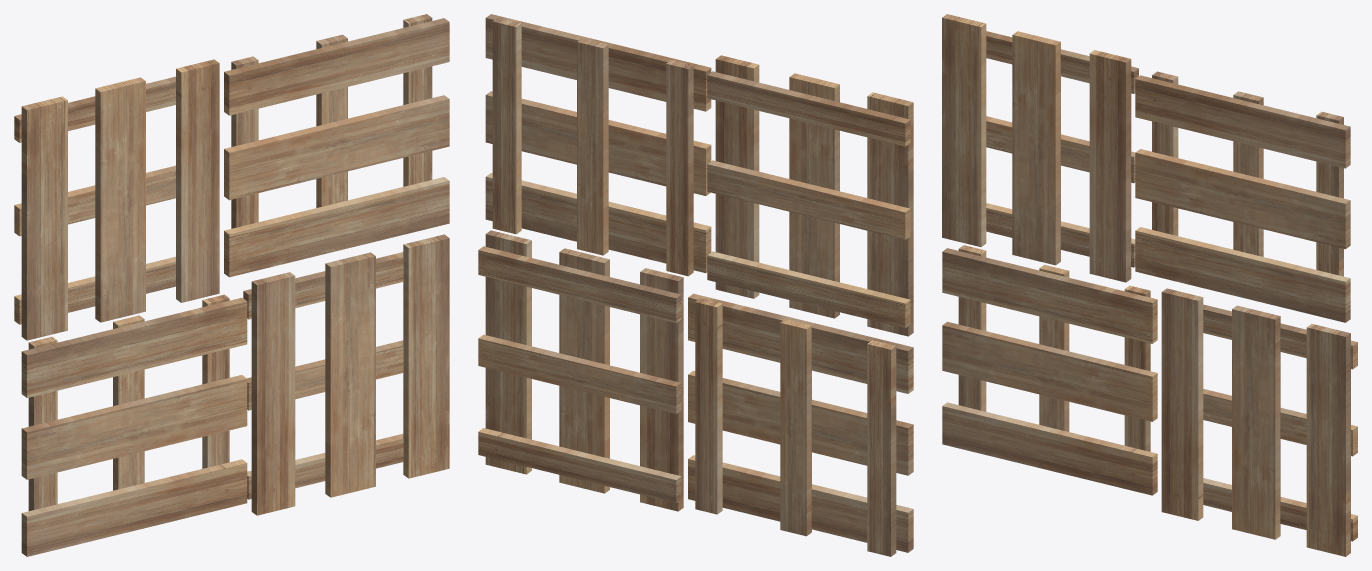
The model's file is warehouse_wood_frame.glb.
3 views of the same model, side by side, from view 1: azimuth 30°, elevation 25°; view 2: azimuth 150°, elevation 25°; view 3: azimuth 330°, elevation 25° (orthographic). The views are drawn at different scales.
Parts seen in each view (by area): view 1: 07. lemari.002; view 2: 07. lemari.002; view 3: 07. lemari.002.
Boxes of the visible parts, x1,y1,x2,y2 form: 07. lemari.002: [14, 14, 449, 556]; 07. lemari.002: [478, 14, 913, 556]; 07. lemari.002: [942, 14, 1357, 556].
Bounding box in the file's own units: 1.69 × 1.75 × 0.072.
Materials: 1 (1 with a texture image).
